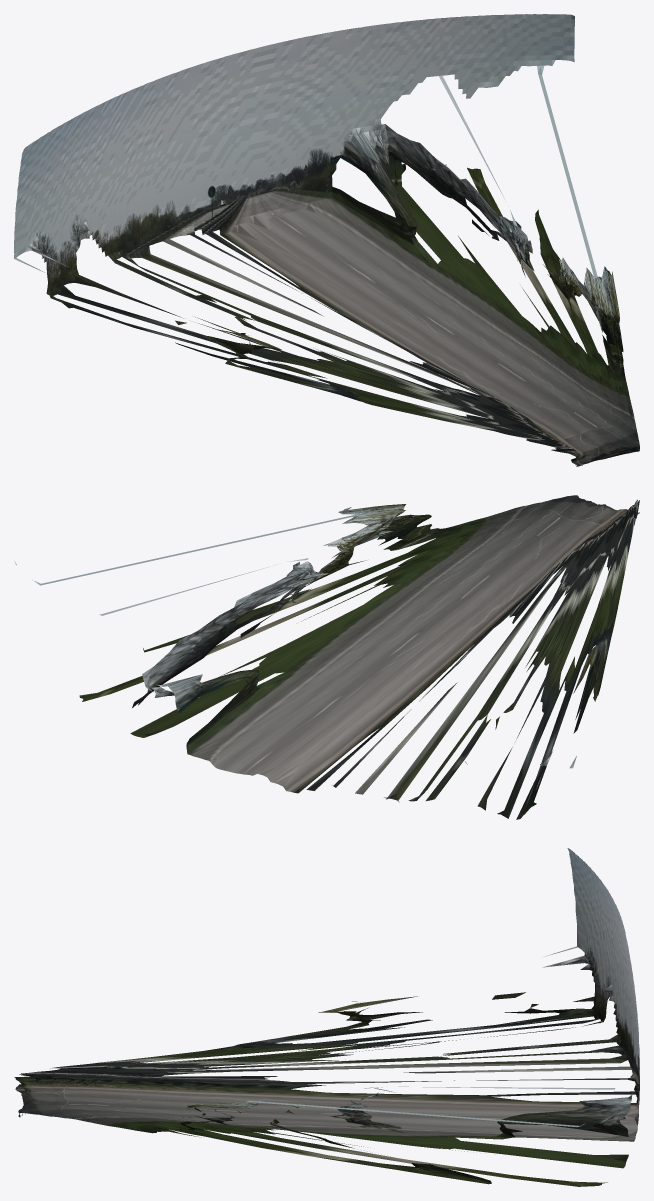
The picture shows the model from 3 angles, top to bottom: view 1: azimuth 30°, elevation 25°; view 2: azimuth 150°, elevation 25°; view 3: azimuth 270°, elevation 25°; orthographic projection. The views are drawn at different scales.
Visible parts, largest first — view 1: defaultobject; view 2: defaultobject; view 3: defaultobject.
Part boxes in pixels (x1,y1,x2,y2): defaultobject: (14,14,639,466); defaultobject: (14,495,639,819); defaultobject: (14,848,639,1186).
Bounding box in the file's own units: 41 × 12.85 × 44.71.
Materials: 1 (1 with a texture image).
